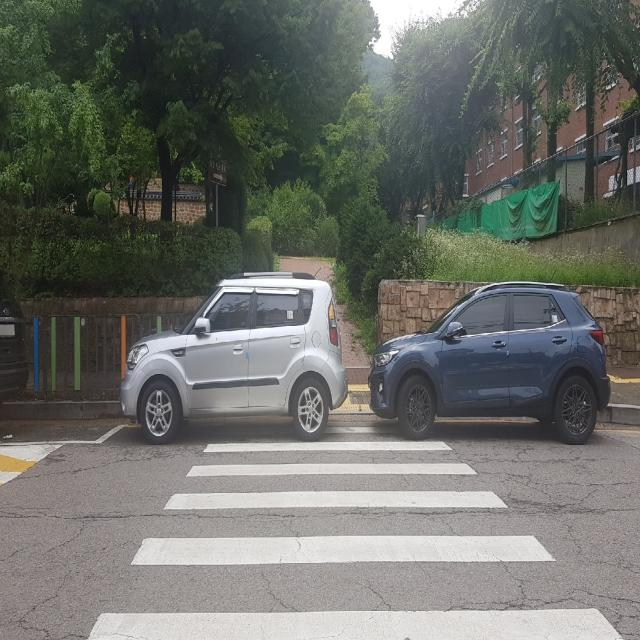횡단보도: (86, 426, 621, 640)
